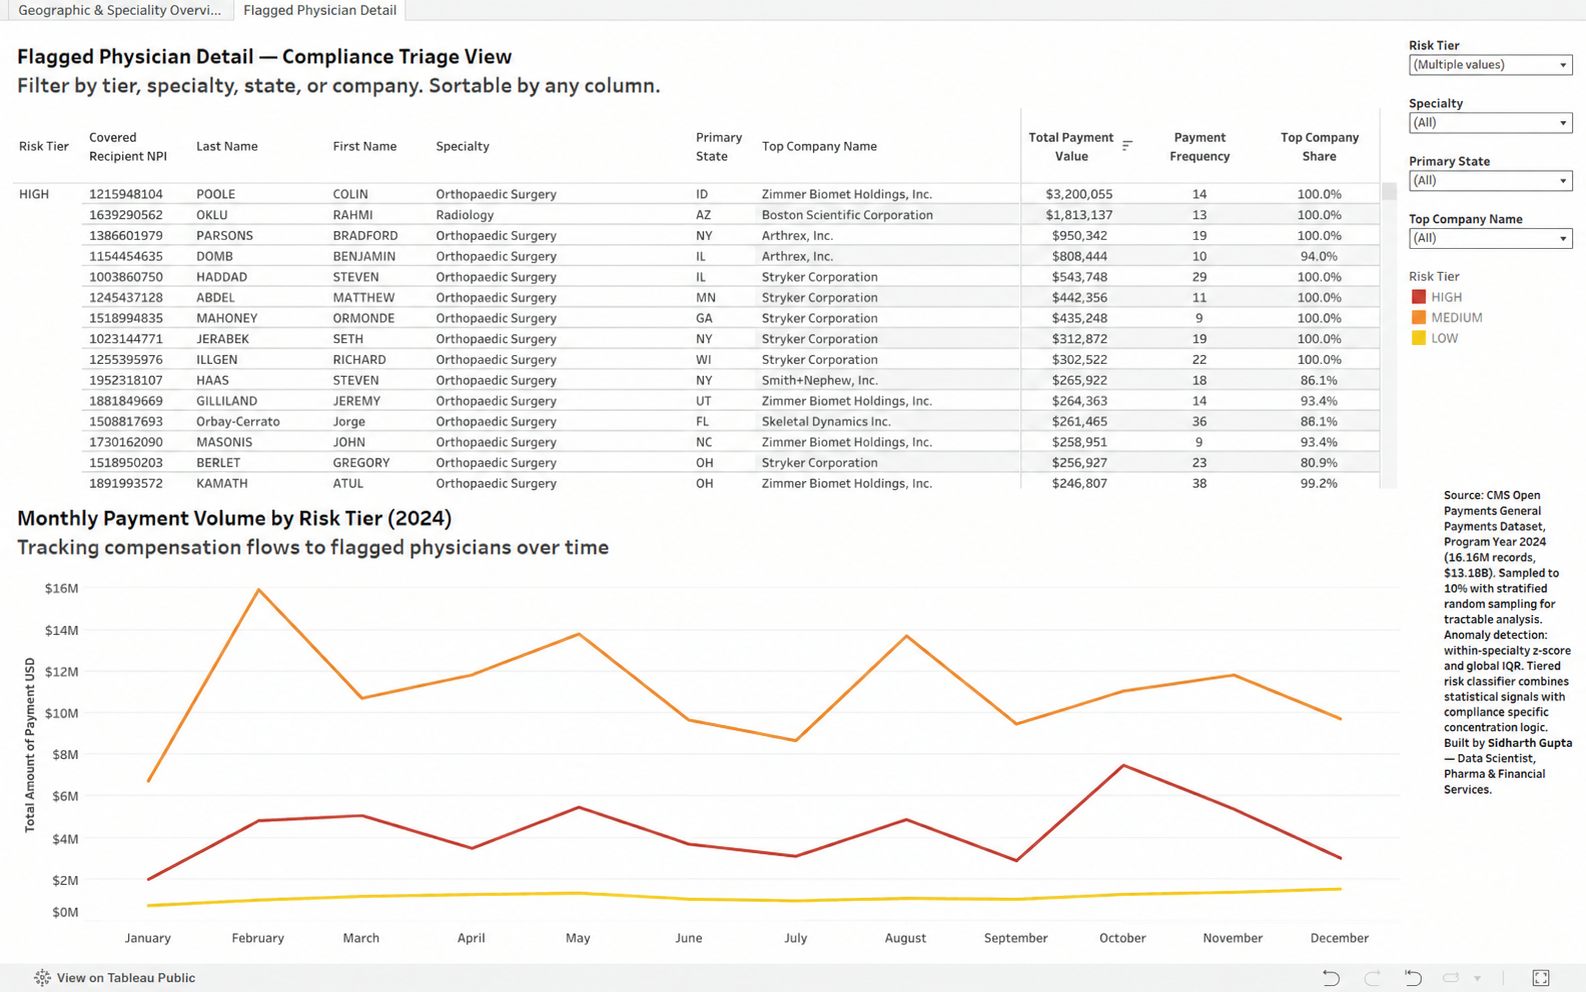

This screenshot's page, from the dashboard's own definition file:
{"tool":"tableau","page":{"name":"Flagged Physician Detail","canvas":[1000,1000],"units":"permille","ordinal":0},"visuals":[{"type":"worksheet","title":"3. Flagged Provider Drill-Down","mark":"Automatic","rows":["Calculation_0910463466795010","Covered_Recipient_NPI","last_name","first_name","Calculation_1627344113016832","primary_state","top_company_name"],"box":[4.2,10,902.5,490]},{"type":"filter","title":"3. Flagged Provider Drill-Down","param":"[federated.0rxctdx1er5ywg11kjhc00sm5ec5].[none:Calculation_0910463466795010:nk]","box":[906.8,10,89,76.2]},{"type":"filter","title":"3. Flagged Provider Drill-Down","param":"[federated.0rxctdx1er5ywg11kjhc00sm5ec5].[none:Calculation_1627344113016832:nk]","box":[906.8,86.2,89,76.2]},{"type":"filter","title":"3. Flagged Provider Drill-Down","param":"[federated.0rxctdx1er5ywg11kjhc00sm5ec5].[none:primary_state:nk]","box":[906.8,162.3,89,76.2]},{"type":"filter","title":"3. Flagged Provider Drill-Down","param":"[federated.0rxctdx1er5ywg11kjhc00sm5ec5].[none:top_company_name:nk]","box":[906.8,238.5,89,76.2]},{"type":"legend","title":"5. Payment Trend by Risk Tier","param":"[federated.0rxctdx1er5ywg11kjhc00sm5ec5].[none:risk_tier:nk]","box":[906.8,314.6,89,116.1]},{"type":"text","box":[907.3,490.6,90,437]},{"type":"worksheet","title":"5. Payment Trend by Risk Tier","mark":"Automatic","rows":["Total_Amount_of_Payment_USDollars"],"cols":["Date_of_Payment"],"box":[4.2,500,902.5,490]}]}

Visuals, with their boxes on the dashboard's canvas, which has no fixed pixel size, in thousandths of its width and height (x1, y1, x2, y2). These are canvas units, not pixel positions in the 1586x992 screenshot, which may show the page scaled, cropped or inside an application window:
"3. Flagged Provider Drill-Down" worksheet: <bbox>4, 10, 907, 500</bbox>
"3. Flagged Provider Drill-Down" filter: <bbox>907, 10, 996, 86</bbox>
"3. Flagged Provider Drill-Down" filter: <bbox>907, 86, 996, 162</bbox>
"3. Flagged Provider Drill-Down" filter: <bbox>907, 162, 996, 238</bbox>
"3. Flagged Provider Drill-Down" filter: <bbox>907, 238, 996, 315</bbox>
"5. Payment Trend by Risk Tier" legend: <bbox>907, 315, 996, 431</bbox>
text: <bbox>907, 491, 997, 928</bbox>
"5. Payment Trend by Risk Tier" worksheet: <bbox>4, 500, 907, 990</bbox>
